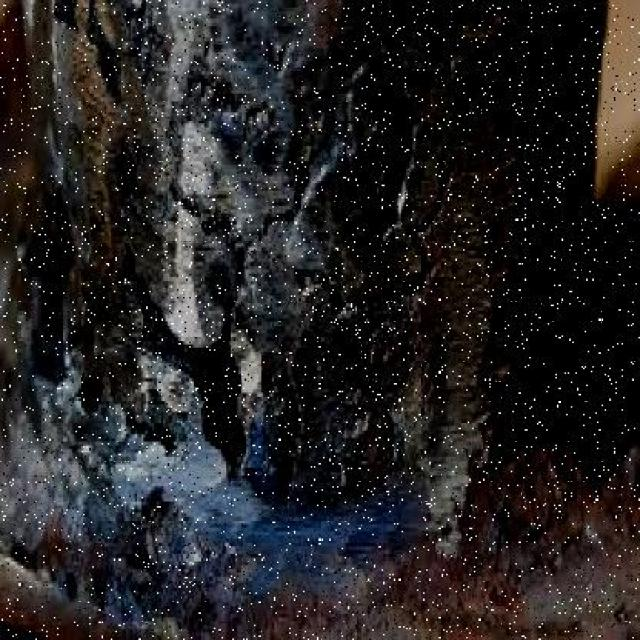Crack: (110, 229, 268, 494), (252, 83, 337, 240), (407, 82, 462, 288), (348, 274, 403, 468), (283, 254, 345, 326)
